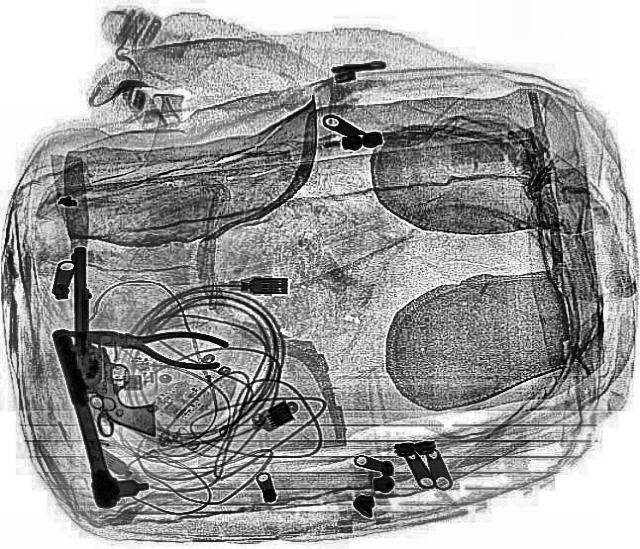Gun: (90, 350, 152, 438), (71, 248, 105, 392)
Pliers: (66, 312, 228, 374)
